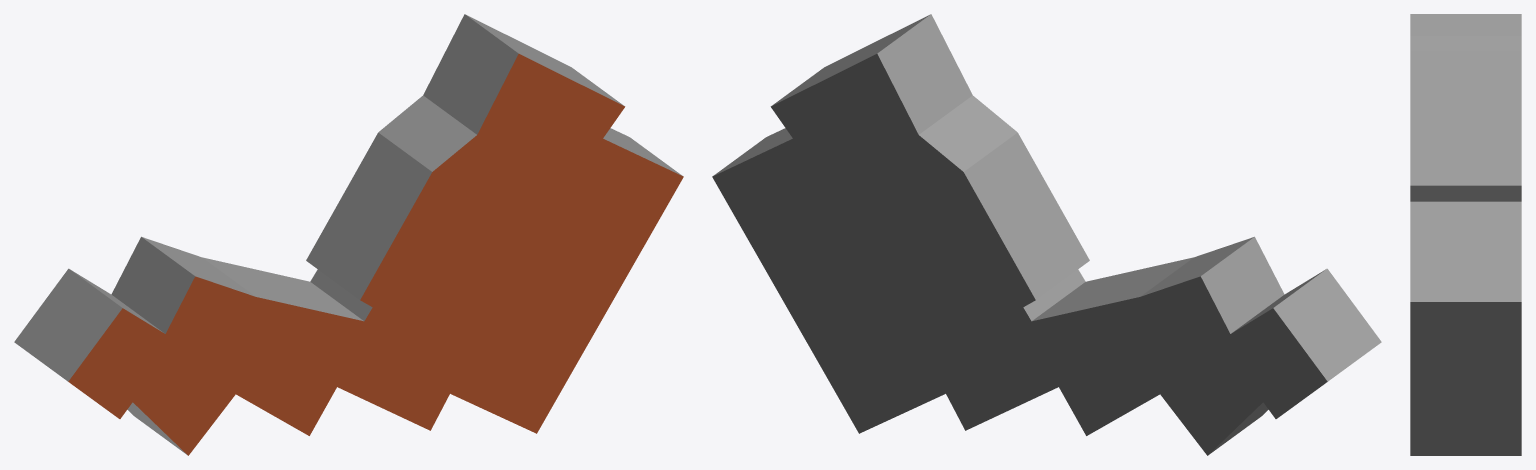
Rendered from construction_3145_assumed_A_Casa_h6m.obj.
3 renders of one model, left to right at view 1: azimuth 30°, elevation 25°; view 2: azimuth 150°, elevation 25°; view 3: azimuth 270°, elevation 25°, orthographic. The views are drawn at different scales.
Visible parts, largest first — view 1: construction_3145_assumed_A_Casa; view 2: construction_3145_assumed_A_Casa; view 3: construction_3145_assumed_A_Casa.
Boxes of the visible parts, left/top/right/bottom form: construction_3145_assumed_A_Casa: left=14, top=14, right=683, bottom=455; construction_3145_assumed_A_Casa: left=712, top=14, right=1381, bottom=455; construction_3145_assumed_A_Casa: left=1410, top=14, right=1521, bottom=455.
Size of the model in its own units: 39.4 by 23.52 by 6.
